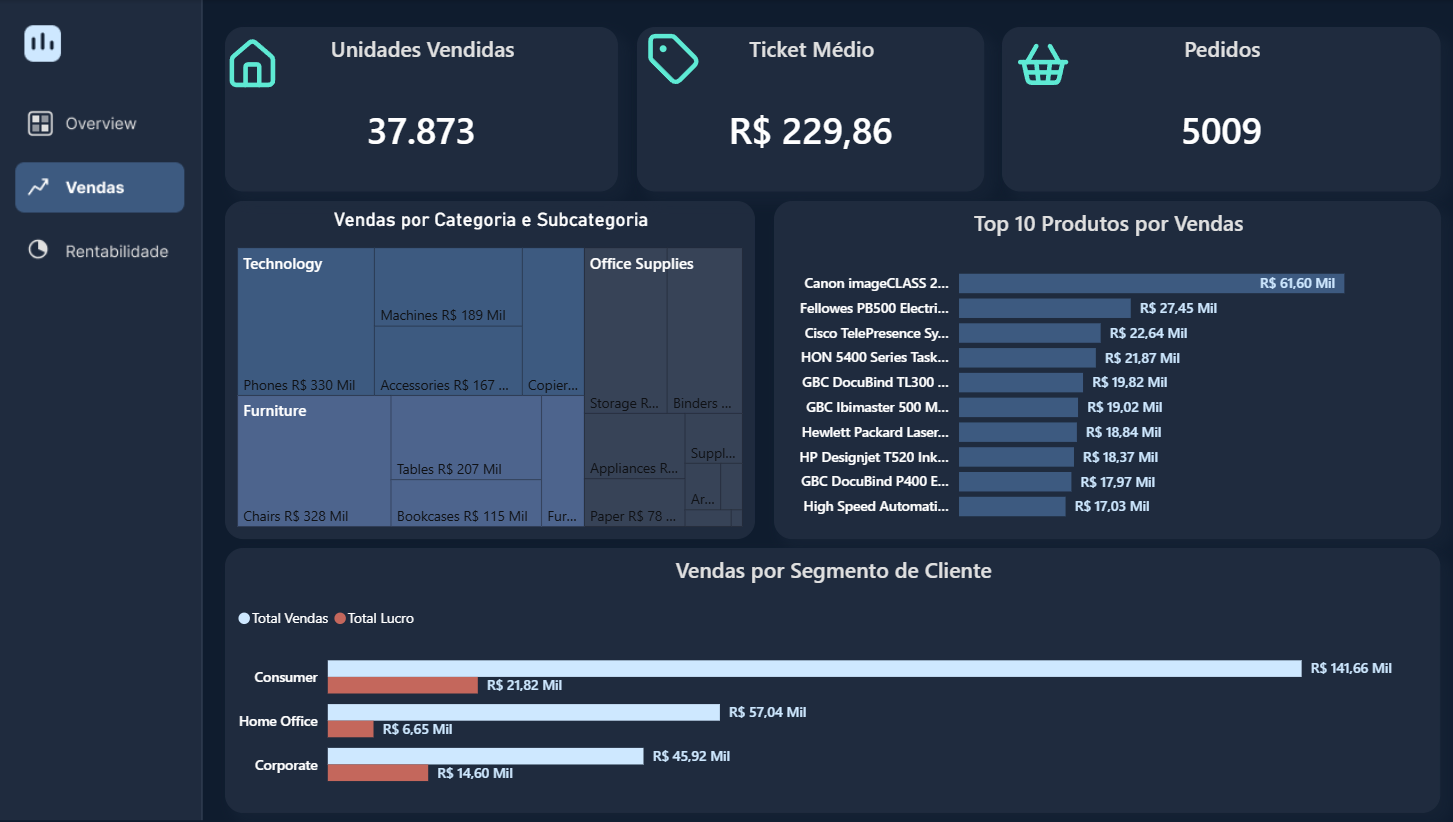

Layout of this report page (visuals, bound fields, positions):
{"tool":"powerbi","page":{"name":"Vendas","canvas":[1280,720],"ordinal":1},"visuals":[{"type":"treemap","title":"Vendas por Categoria e Subcategoria","fields":{"Details":["fato_vendas.subcategoria"],"Group":["fato_vendas.categoria"],"Values":["Medidas.Total Vendas"]},"box":[200,176,464,296],"z":0},{"type":"card","title":"Pedidos","fields":{"Values":["Medidas.Total Pedidos"]},"box":[880,24,384,144],"z":1000},{"type":"card","title":"Unidades Vendidas","fields":{"Values":["Medidas.Total Quantidade"]},"box":[200,24,344,144],"z":2000},{"type":"card","title":"Ticket Médio","fields":{"Values":["Medidas.Ticket Médio"]},"box":[560,24,304,144],"z":3000},{"type":"clusteredBarChart","title":"Top 10 Produtos por Vendas","fields":{"Category":["fato_vendas.produto"],"Y":["Medidas.Total Vendas"]},"box":[680,176,584,296],"z":4000},{"type":"clusteredBarChart","title":"Vendas por Segmento de Cliente","fields":{"Category":["fato_vendas.segmento"],"Y":["Medidas.Total Vendas","Medidas.Total Lucro"]},"box":[200,480,1064,232],"z":5000},{"type":"image","box":[568,24,48,56],"z":6000},{"type":"image","box":[200,32,48,48],"z":7000},{"type":"image","box":[880,32,72,48],"z":8000},{"type":"actionButton","box":[16,88,144,48],"z":9000},{"type":"actionButton","box":[16,192,144,48],"z":10000}]}

Visuals, with their boxes on the page's 1280x720 design canvas (x1, y1, x2, y2). These are canvas units, not pixel positions in the 1453x822 screenshot, which may show the page scaled, cropped or inside an application window:
"Vendas por Categoria e Subcategoria" treemap: bbox=[200, 176, 664, 472]
"Pedidos" card: bbox=[880, 24, 1264, 168]
"Unidades Vendidas" card: bbox=[200, 24, 544, 168]
"Ticket Médio" card: bbox=[560, 24, 864, 168]
"Top 10 Produtos por Vendas" clusteredBarChart: bbox=[680, 176, 1264, 472]
"Vendas por Segmento de Cliente" clusteredBarChart: bbox=[200, 480, 1264, 712]
image: bbox=[568, 24, 616, 80]
image: bbox=[200, 32, 248, 80]
image: bbox=[880, 32, 952, 80]
actionButton: bbox=[16, 88, 160, 136]
actionButton: bbox=[16, 192, 160, 240]
